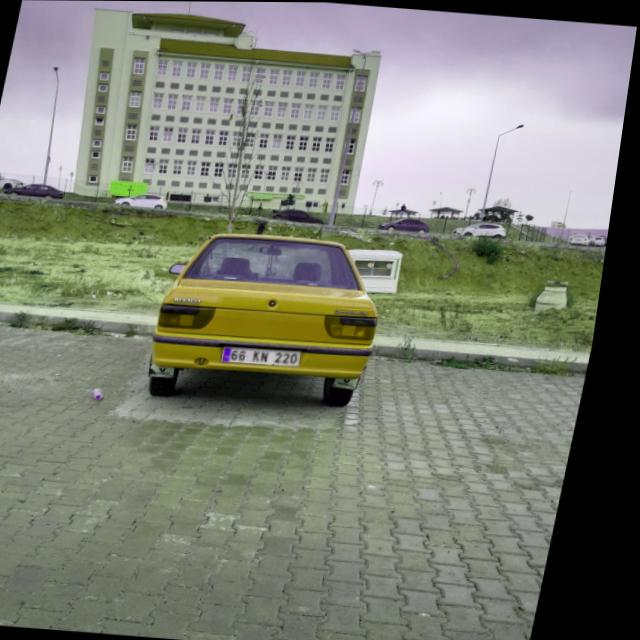license_plate: (232, 346, 312, 366)
